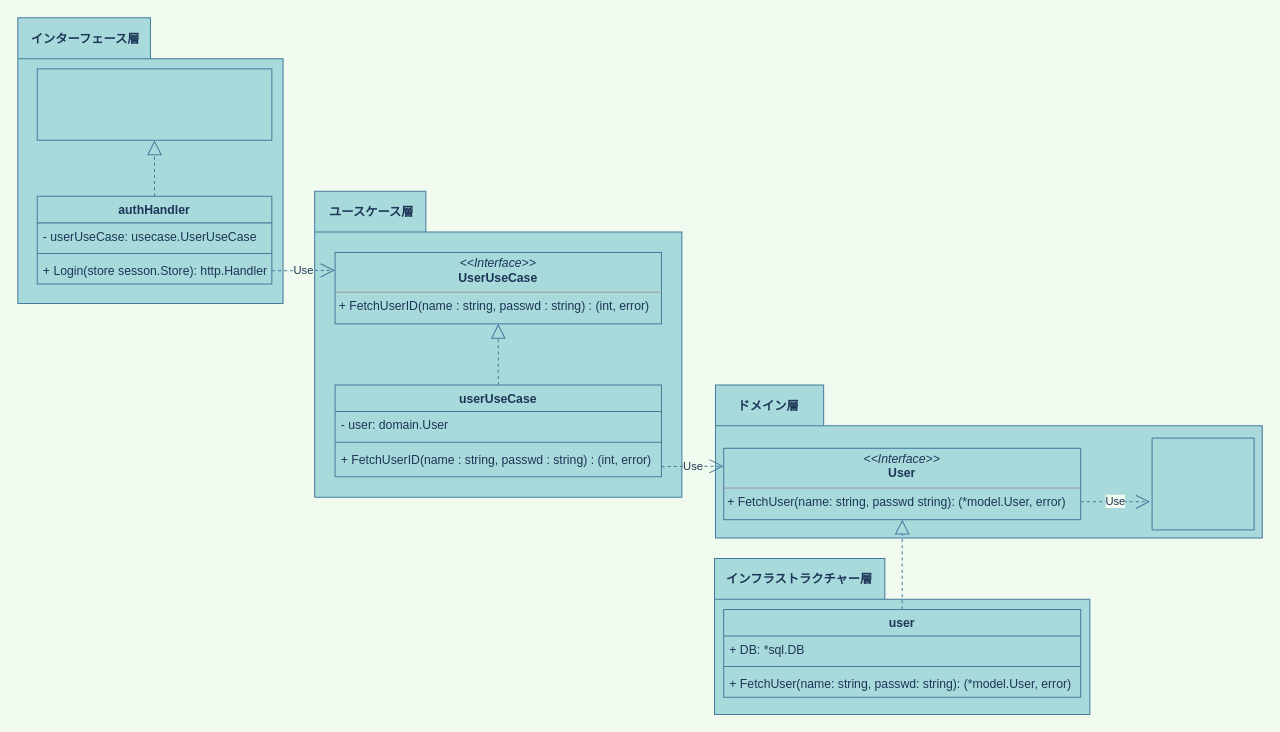
This 1280x732 diagram has some shape labels left out. The centre of each missing label's shape, as x and y in pixels:
<<entity>> User + ID: int + Name: string + Passwd: string: point 1202,483
<<Interface>> AuthHandler + Login(store session.Store): http.Handler: point 154,104
